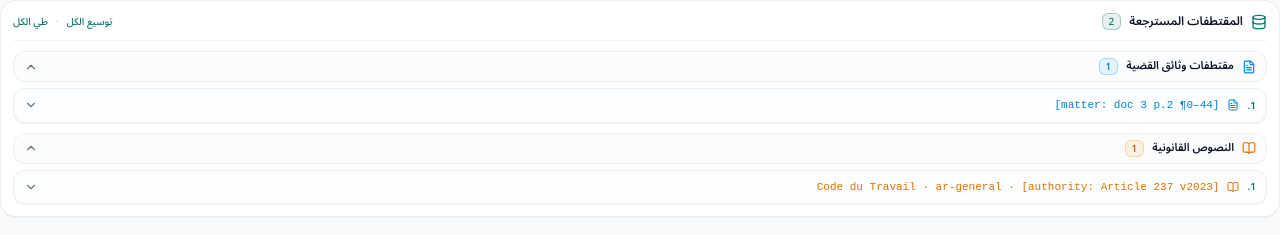
Test: RetrievedChunksPanel › hides and restores a group's chunks when its header is toggled
Click the button "مقتطفات وثائق القضية 1": [1180, 66] box [13,51,1267,82]
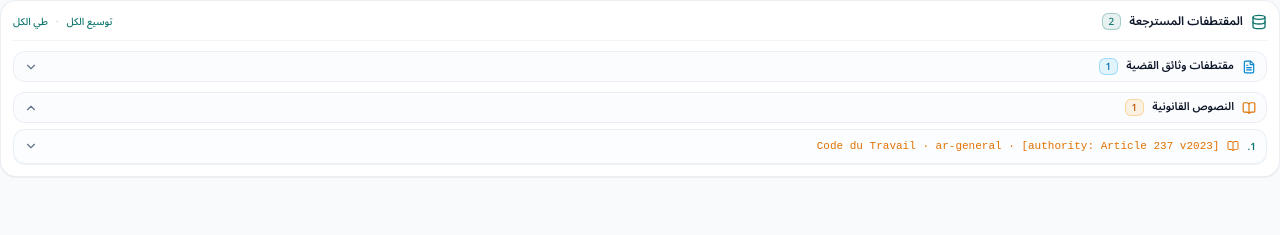
Expected: the text "[matter: doc 3 p.2 ¶0–44]" is not shown
Result: the button "مقتطفات وثائق القضية 1" is collapsed
Click the button "مقتطفات وثائق القضية 1": [1180, 66] box [13,51,1267,82]
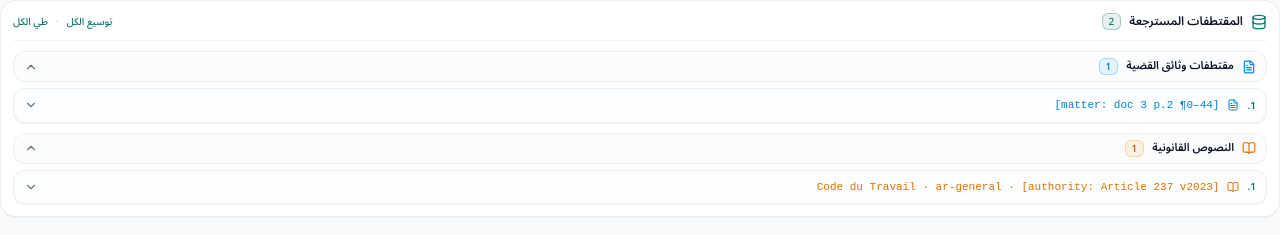
Result: the button "مقتطفات وثائق القضية 1" is expanded at [13,51,1267,82]
Result: the text "[matter: doc 3 p.2 ¶0–44]" is shown at [1054,97,1219,114]
